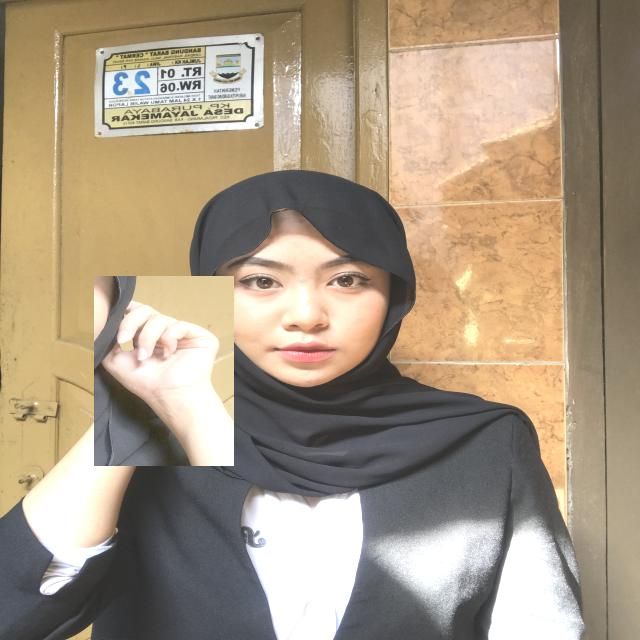ibu: (94, 276, 234, 466)
